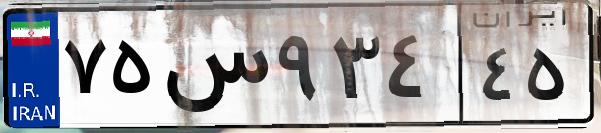3: (330, 28, 385, 110)
4: (385, 28, 445, 110), (475, 38, 525, 113)
5: (525, 38, 570, 115), (110, 28, 158, 98)
7: (57, 26, 110, 100)
9: (270, 28, 330, 110)
س: (158, 20, 270, 120)
